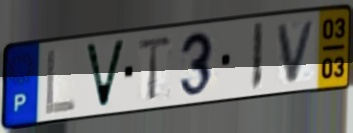3: (177, 27, 221, 100)
I: (249, 20, 266, 94)
L: (43, 46, 78, 118)
T: (136, 33, 175, 104)
V: (82, 37, 129, 111), (275, 17, 319, 86)
